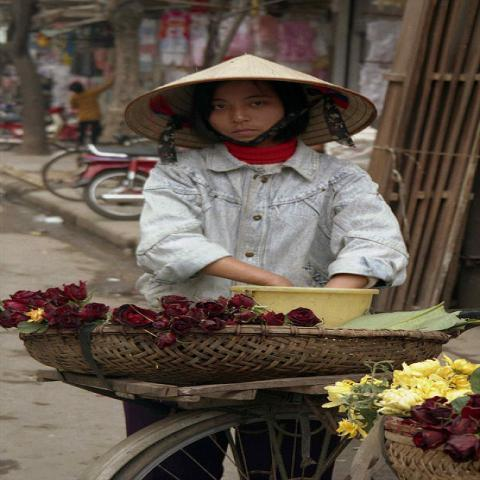motorcycle: (68, 144, 161, 222)
